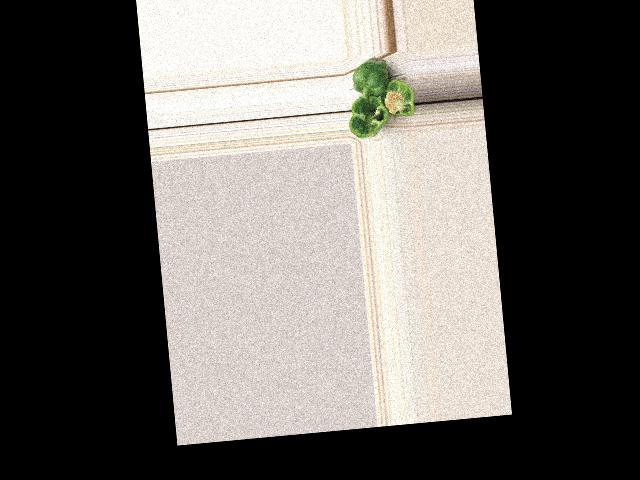bell_pepper: (379, 75, 416, 126)
